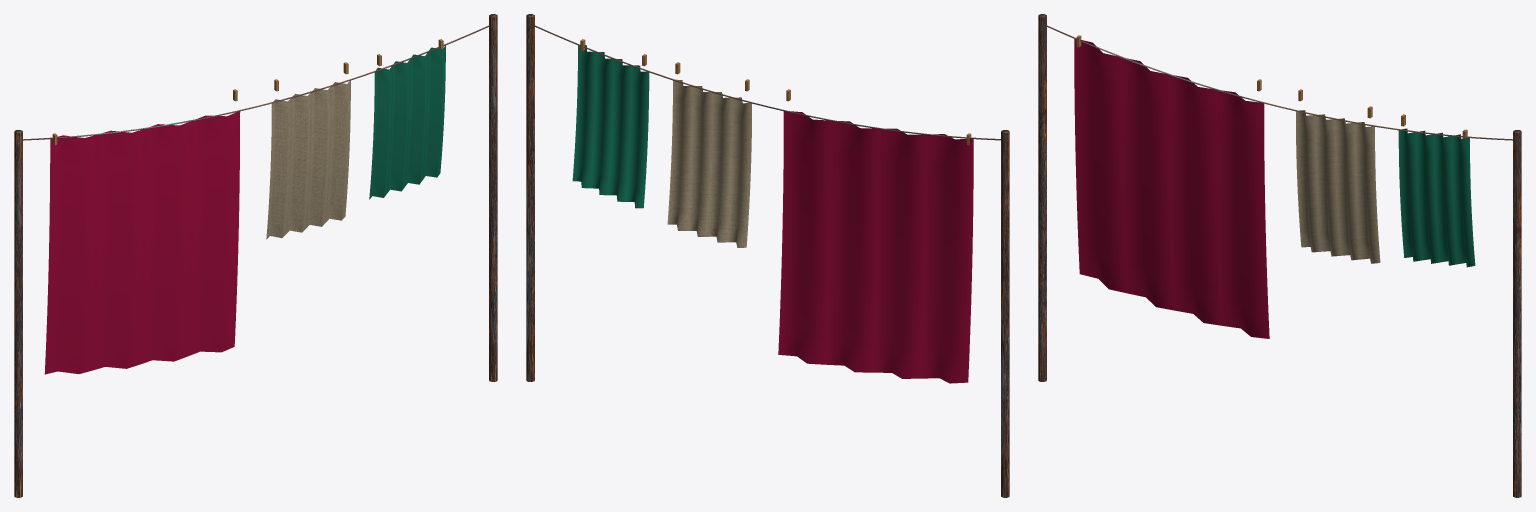
Rendered from prop_clothesline_roof.glb.
3 renders of one model, left to right at view 1: azimuth 30°, elevation 25°; view 2: azimuth 150°, elevation 25°; view 3: azimuth 330°, elevation 25°, orthographic.
Parts seen in each view (by area): view 1: prop_clothesline_roof; view 2: prop_clothesline_roof; view 3: prop_clothesline_roof.
Boxes of the visible parts, x1,y1,x2,y2 form: prop_clothesline_roof: [14, 14, 497, 497]; prop_clothesline_roof: [526, 14, 1009, 497]; prop_clothesline_roof: [1038, 14, 1521, 497].
Size of the model in its own units: 3.05 by 2.2 by 0.1206.
5 materials, 3 textured.
